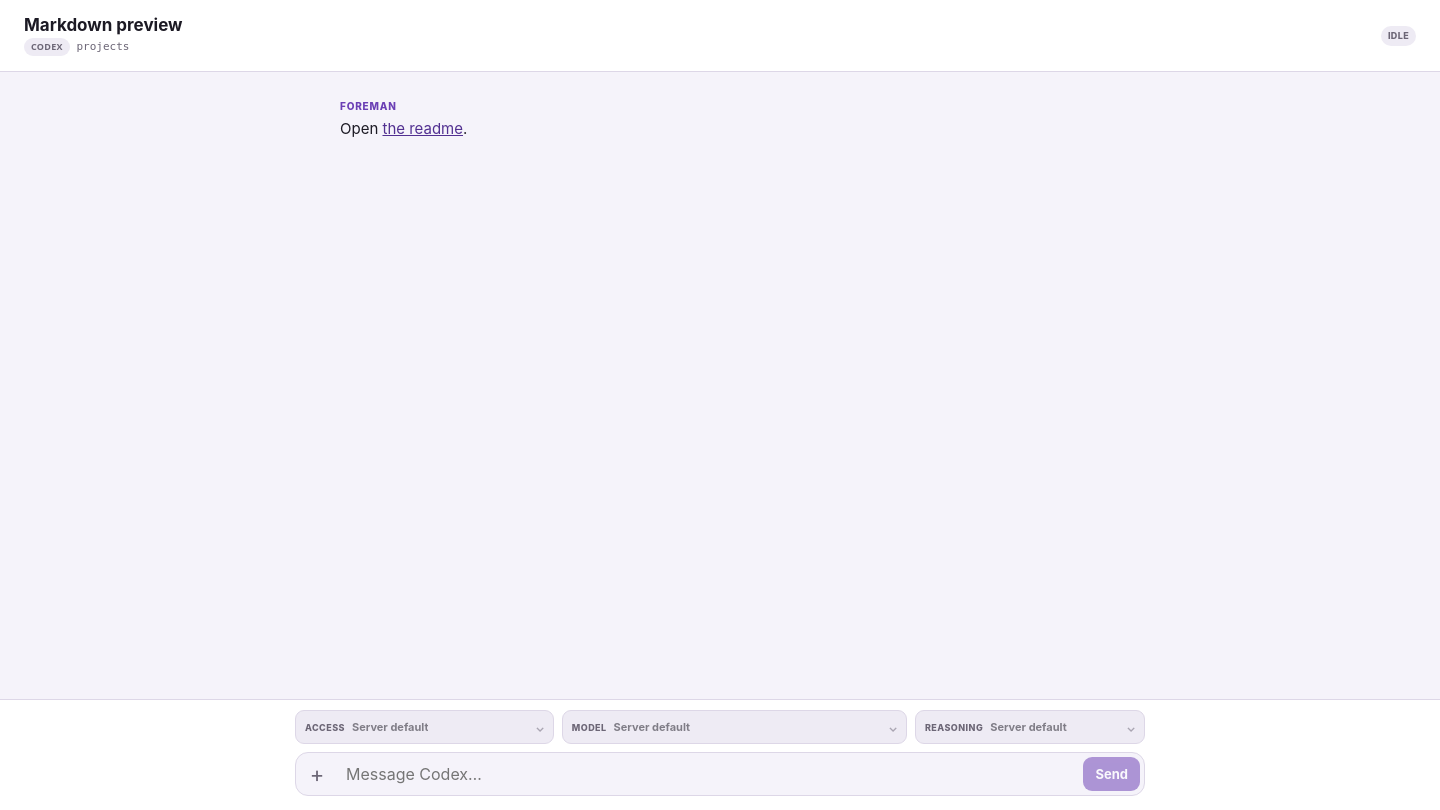
Test: assistant workspace file links › previews Markdown files without a source location and toggles to source
The image size is (1440, 810).
Click the link "the readme" at (423, 129), box x1=382 y1=119 x2=463 y2=138
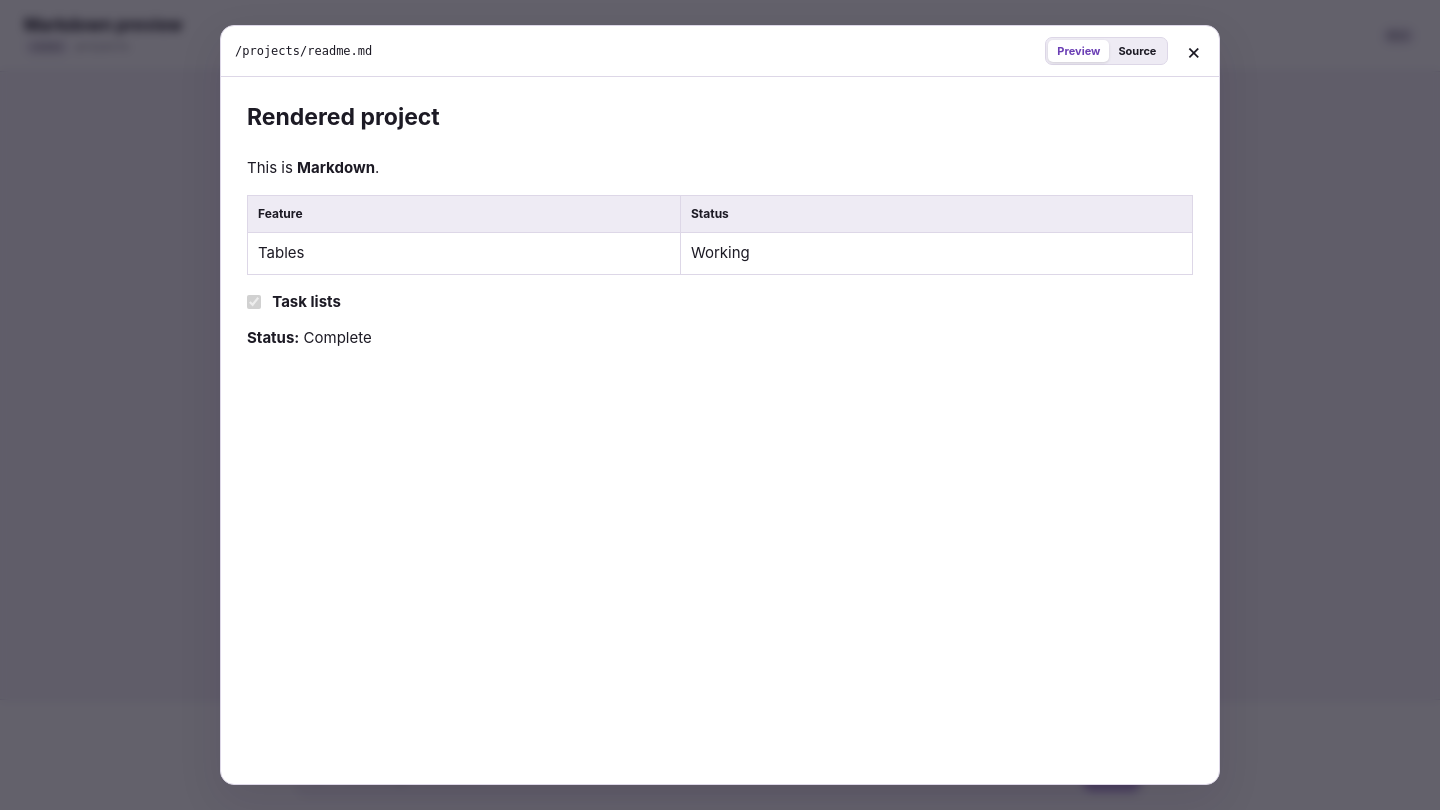
Now the heading "Rendered project" is shown, box x1=247 y1=103 x2=440 y2=131
Now the table is shown, box x1=247 y1=195 x2=1193 y2=275
Now the column heading "Feature" is shown, box x1=248 y1=196 x2=680 y2=233
Click the tab "Source" at (1137, 51), box x1=1109 y1=40 x2=1165 y2=62
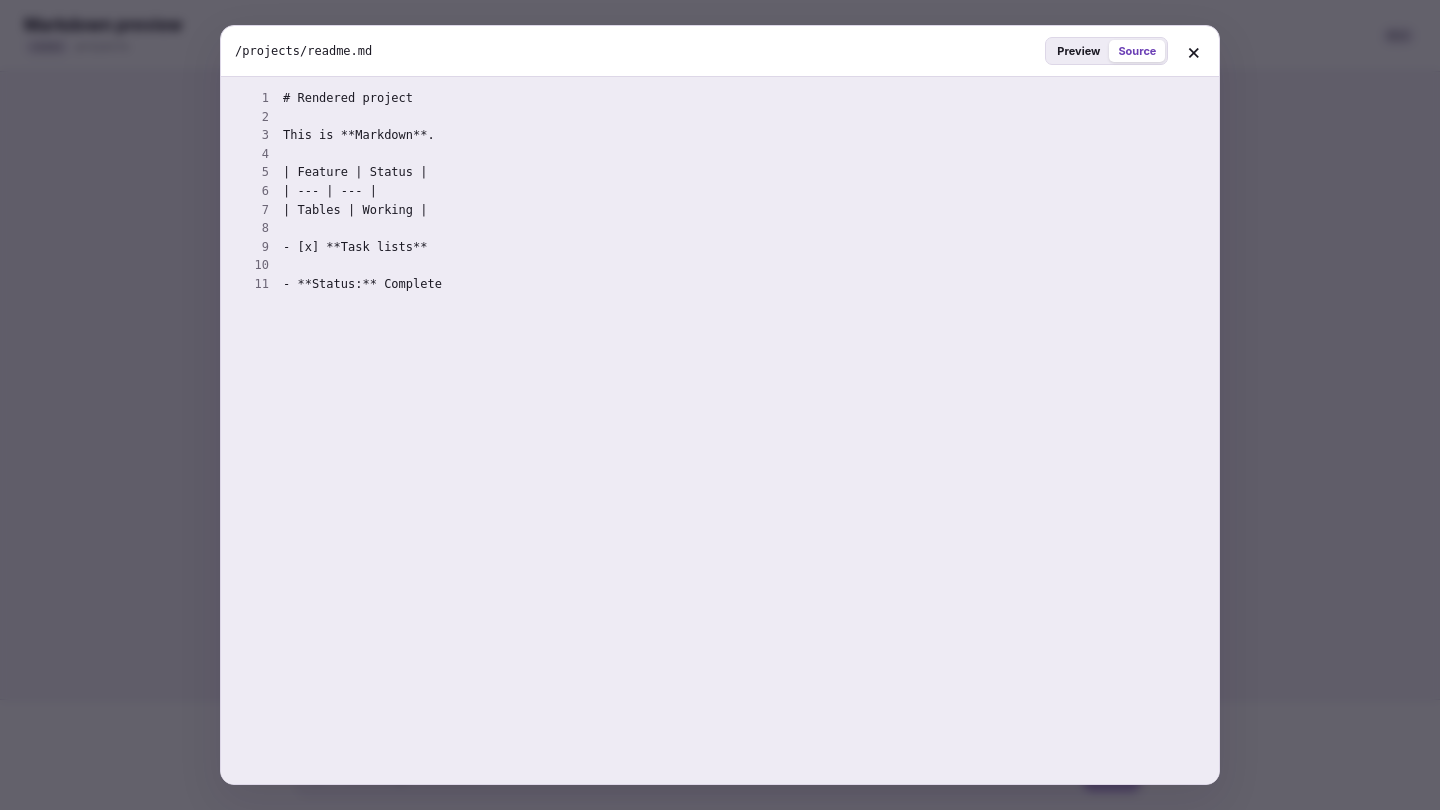
Now the text "# Rendered project" is shown, box x1=283 y1=91 x2=413 y2=105
